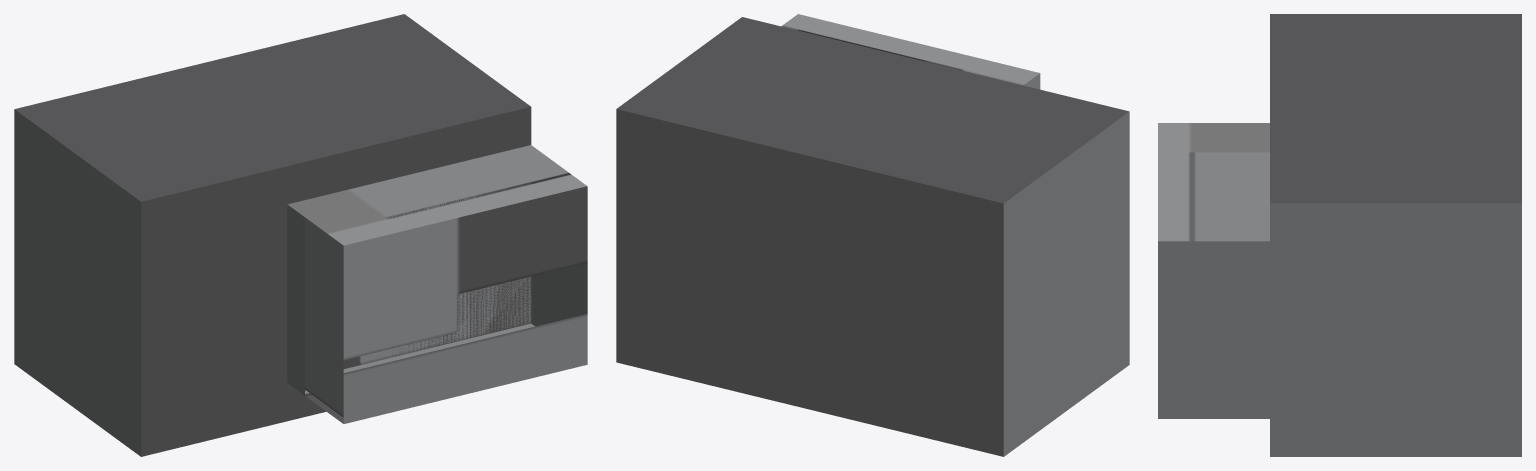
3 renders of one model, left to right at view 1: azimuth 30°, elevation 25°; view 2: azimuth 150°, elevation 25°; view 3: azimuth 270°, elevation 25°, orthographic.
Size of the model in its own units: 0.08 by 0.05 by 0.065.
